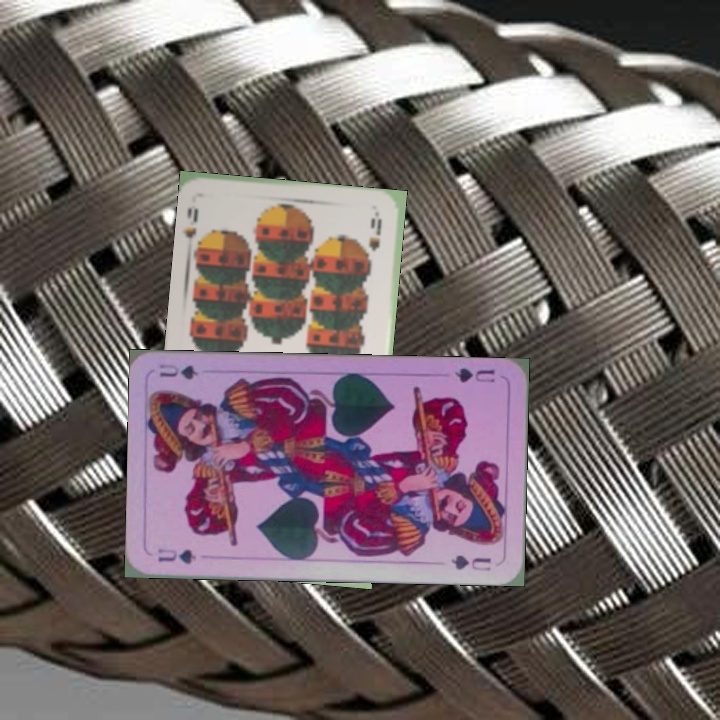GU: (451, 363, 498, 386), (153, 545, 198, 566)
S9: (181, 203, 208, 256)
